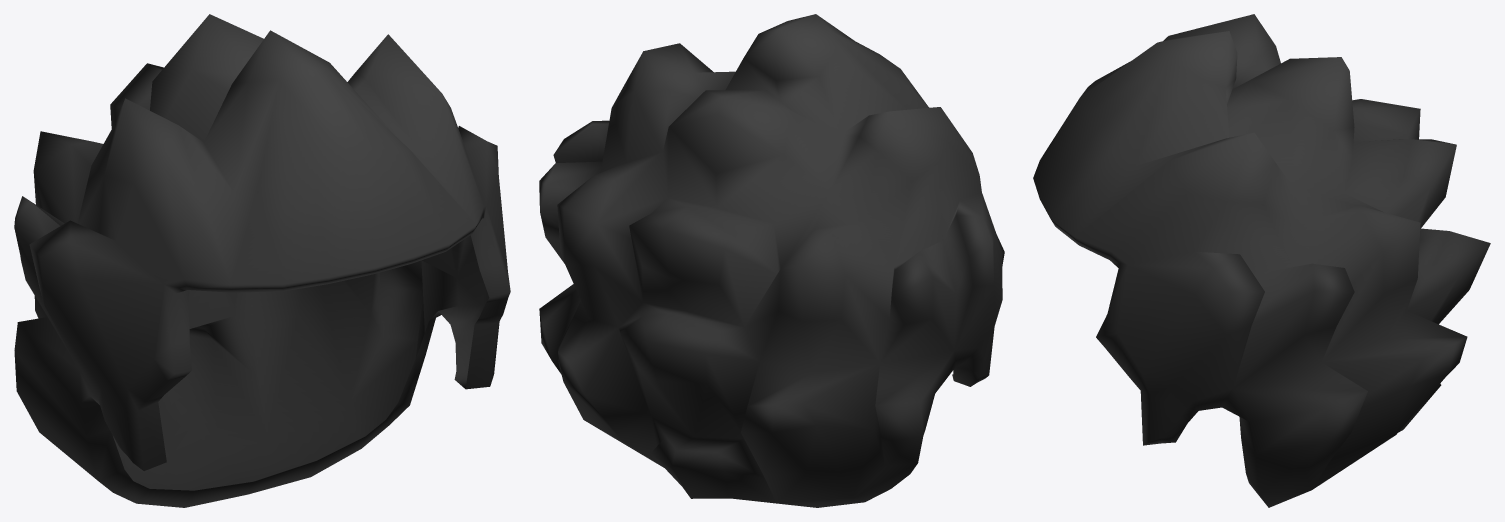
File: Hair_Black_16.fbx
The picture shows the model from 3 angles, left to right: view 1: azimuth 30°, elevation 25°; view 2: azimuth 150°, elevation 25°; view 3: azimuth 270°, elevation 25°; orthographic projection. The views are drawn at different scales.
Parts seen in each view (by area): view 1: Hair_Black_16; view 2: Hair_Black_16; view 3: Hair_Black_16.
Part boxes in pixels (bbox=[...]): Hair_Black_16: bbox=[14, 14, 510, 507]; Hair_Black_16: bbox=[539, 14, 1004, 507]; Hair_Black_16: bbox=[1033, 14, 1490, 507].
Size of the model in its own units: 62.42 by 62.7 by 58.65.
